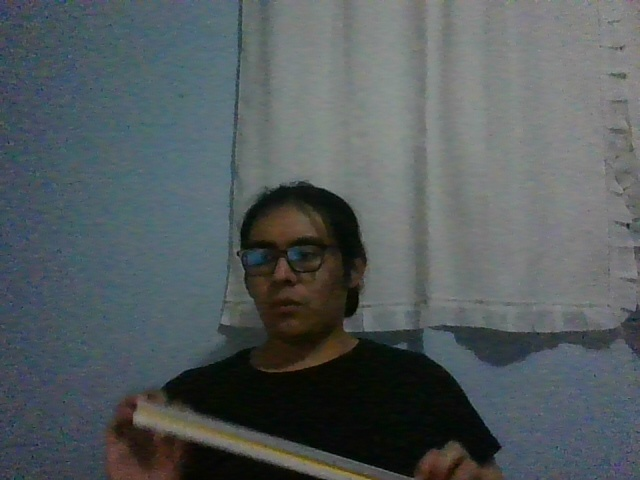regla: (132, 398, 413, 480)
